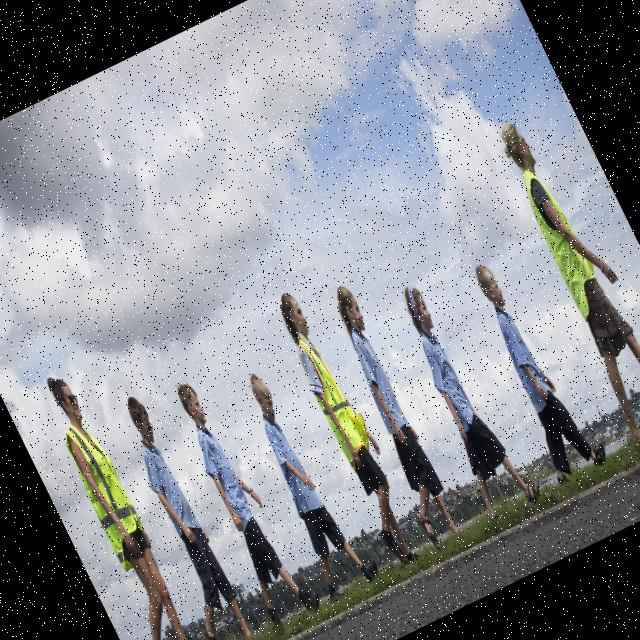Person: (18, 365, 214, 640), (486, 105, 640, 442), (266, 284, 434, 574), (311, 283, 469, 548), (160, 369, 322, 627), (95, 391, 259, 640), (381, 271, 543, 520), (228, 362, 380, 597), (459, 250, 608, 478)
